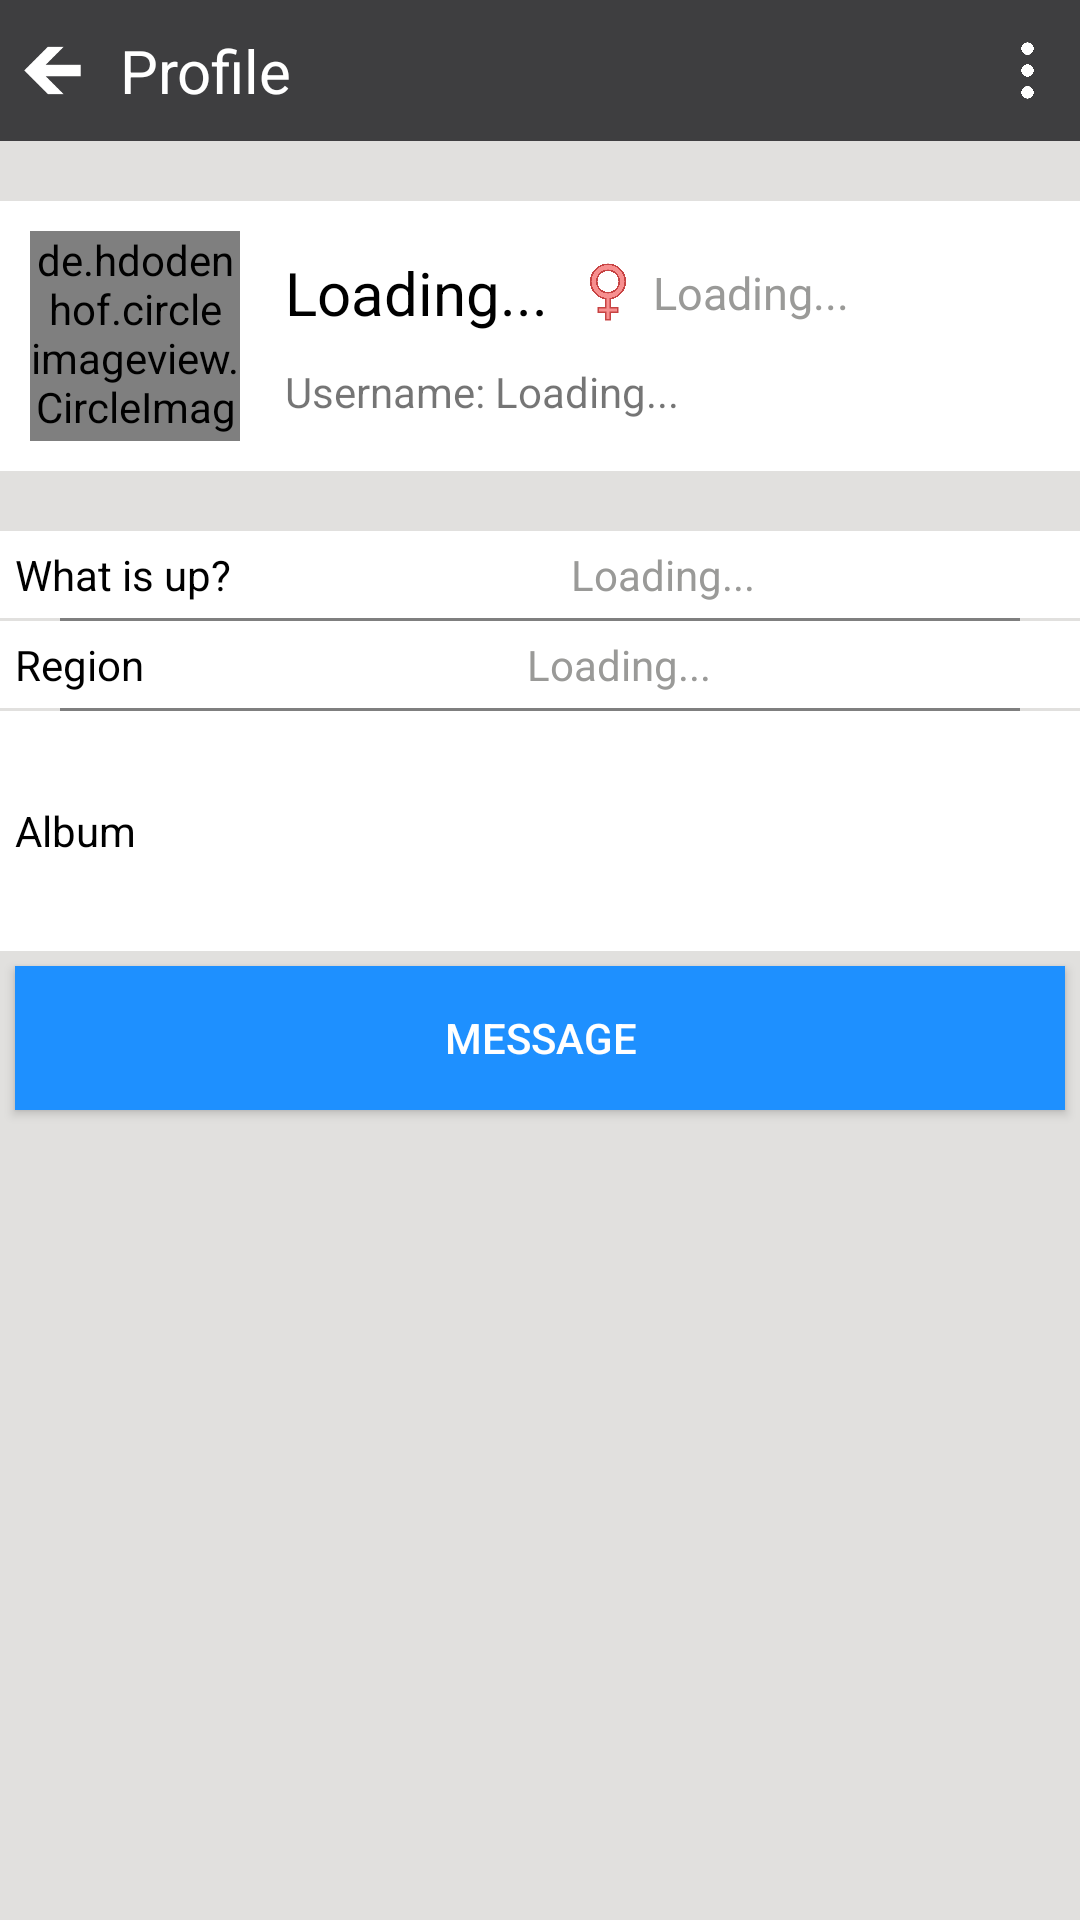

Where to tap for icons on this 1080×1920 app screen, as (x=x, y=y):
back: (x=52, y=70)
female: (x=608, y=292)
menu: (x=1027, y=70)
